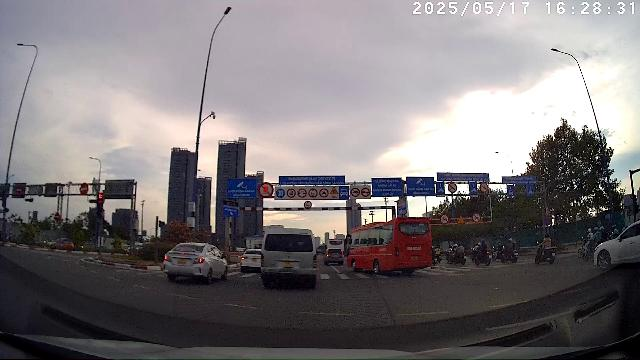103a-cam-oto: (439, 213, 450, 224), (448, 183, 457, 193), (472, 212, 481, 222)
127-toc-do-toi-da-60: (286, 188, 296, 198)
